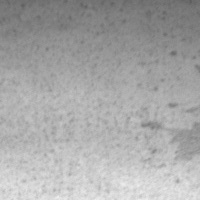pitted_surface: (6, 3, 199, 197)
